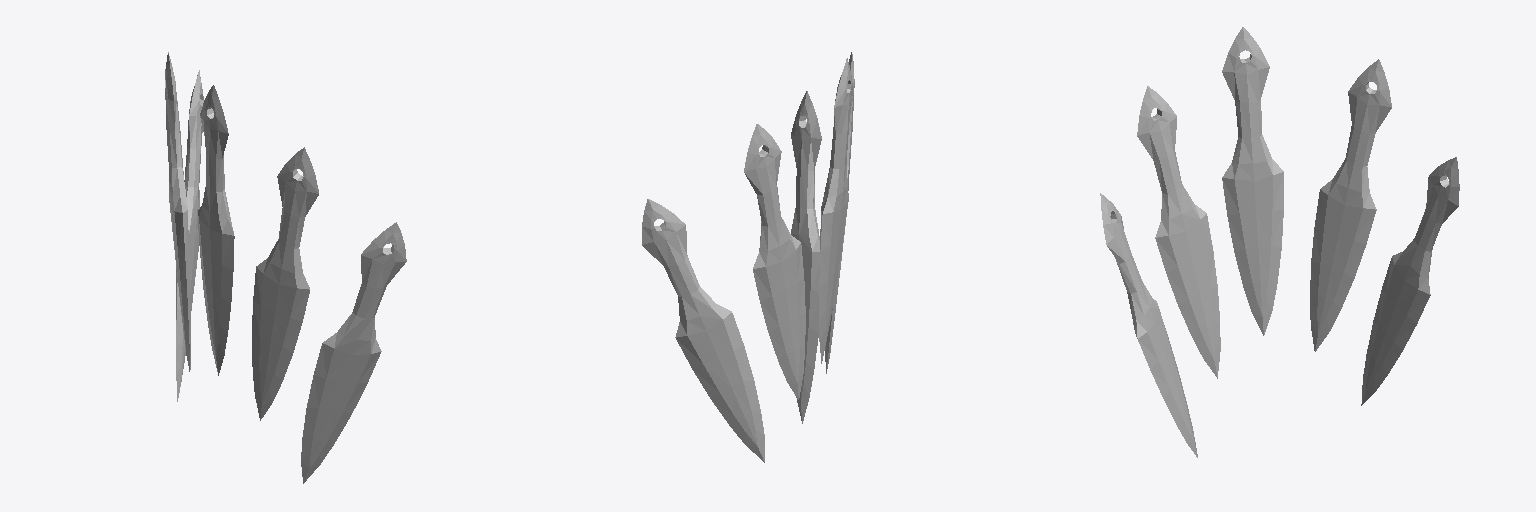
Rendered from paladins_knives.obj.
3 renders of one model, left to right at view 1: azimuth 30°, elevation 25°; view 2: azimuth 150°, elevation 25°; view 3: azimuth 270°, elevation 25°, orthographic.
Visible parts, largest first — view 1: paladins_skye_knives; view 2: paladins_skye_knives; view 3: paladins_skye_knives.
Boxes of the visible parts, x1=… form: paladins_skye_knives: x1=165, y1=52, x2=406, y2=483; paladins_skye_knives: x1=642, y1=52, x2=854, y2=462; paladins_skye_knives: x1=1100, y1=27, x2=1459, y2=457.
Size of the model in its own units: 3.42 by 10.21 by 8.31.